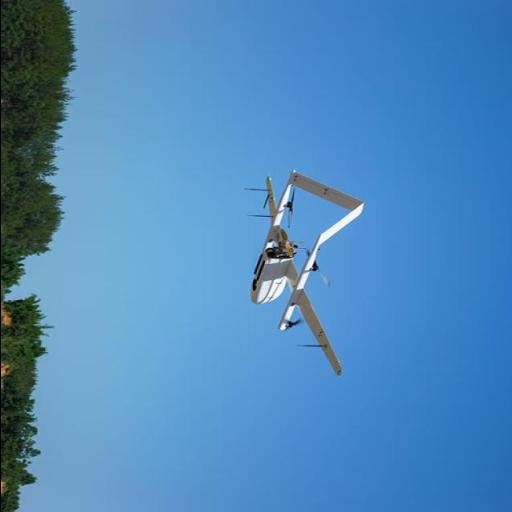uav: (202, 160, 372, 392)
